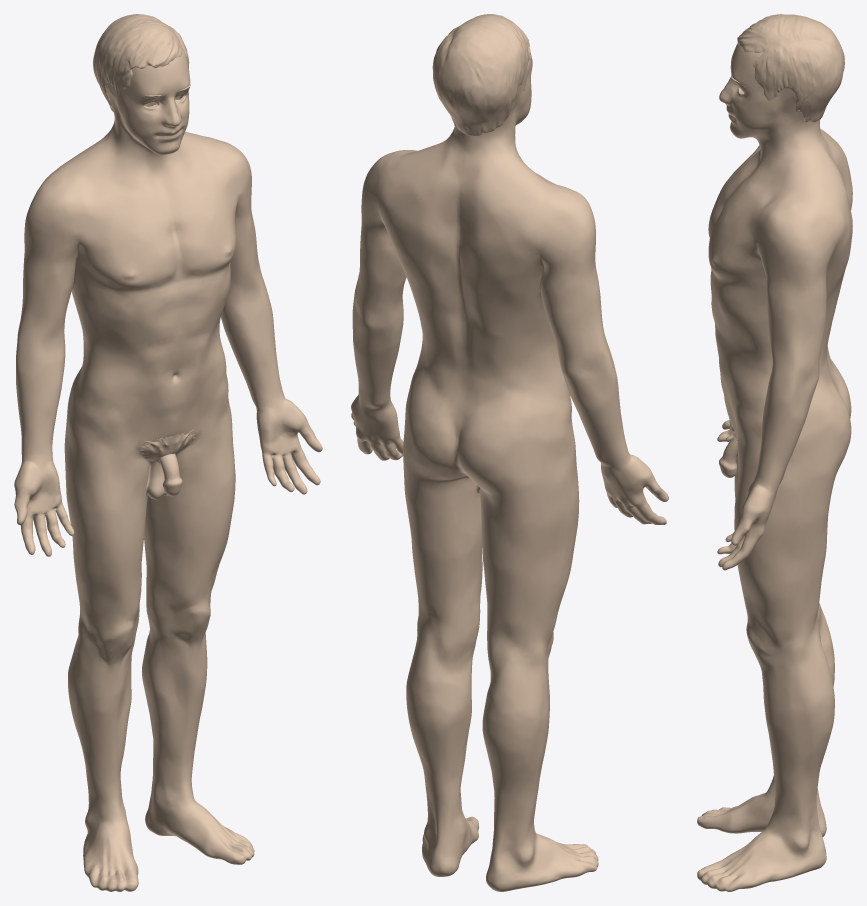
Rendered from male-integumentary.glb.
3 renders of one model, left to right at view 1: azimuth 30°, elevation 25°; view 2: azimuth 150°, elevation 25°; view 3: azimuth 270°, elevation 25°, orthographic. The views are drawn at different scales.
Visible parts, largest first — view 1: FJ2810, FJ2813, FJ2815; view 2: FJ2810, FJ2813; view 3: FJ2810, FJ2813.
Boxes of the visible parts, x1,y1,x2,y2 form: FJ2810: (14, 47, 322, 891); FJ2813: (93, 14, 189, 111); FJ2815: (140, 429, 195, 461); FJ2810: (351, 53, 668, 891); FJ2813: (432, 14, 530, 135); FJ2810: (697, 44, 852, 891); FJ2813: (737, 14, 844, 122).
Size of the model in its own units: 0.6669 by 1.73 by 0.292.
